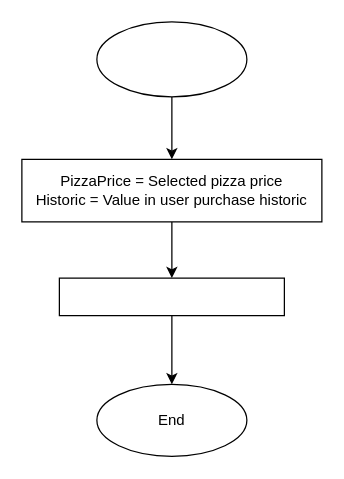
The diagram is 344 pixels wide and 479 high, and some of its shapes have lost their labels. Each missing label, with the centre of its shape:
"Historic = Historic + PizzaPrice" goes at point 171,296.
"Start" goes at point 171,59.
